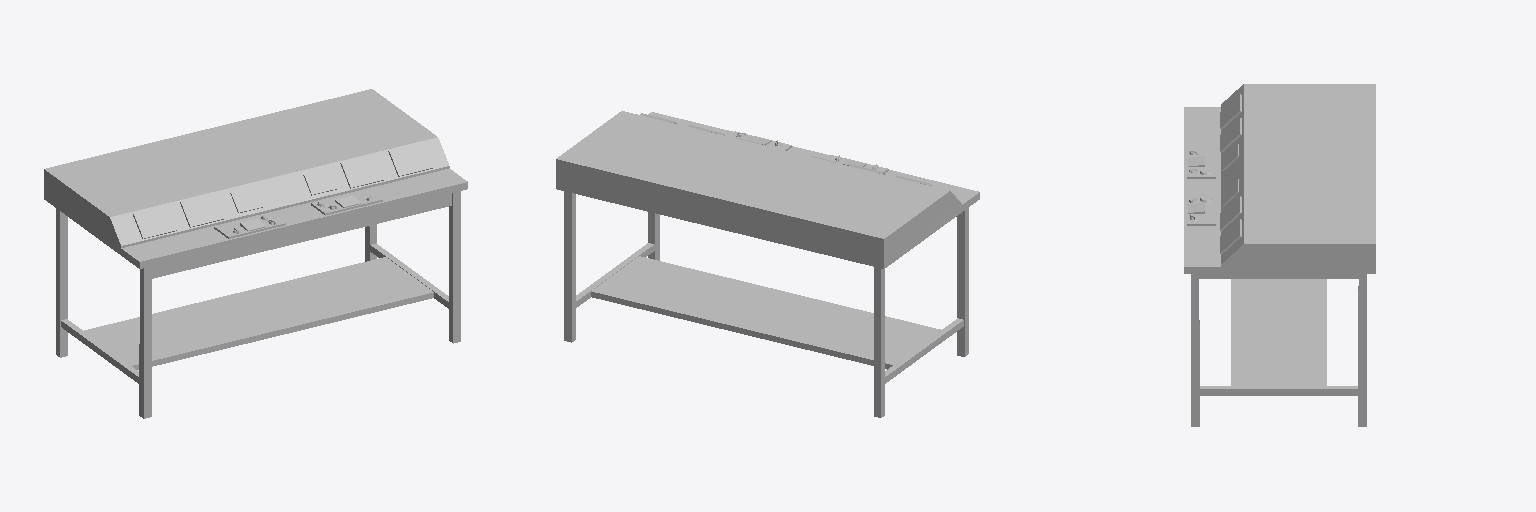
Rendered from stol.obj.
3 views of the same model, side by side, from view 1: azimuth 30°, elevation 25°; view 2: azimuth 150°, elevation 25°; view 3: azimuth 270°, elevation 25° (orthographic).
Parts seen in each view (by area): view 1: stol_1.object_stol_1; view 2: stol_1.object_stol_1; view 3: stol_1.object_stol_1.
Part boxes in pixels (bbox=[...]): stol_1.object_stol_1: bbox=[44, 89, 467, 418]; stol_1.object_stol_1: bbox=[556, 111, 979, 417]; stol_1.object_stol_1: bbox=[1184, 84, 1375, 426].
Size of the model in its own units: 2.21 by 1.19 by 1.12.